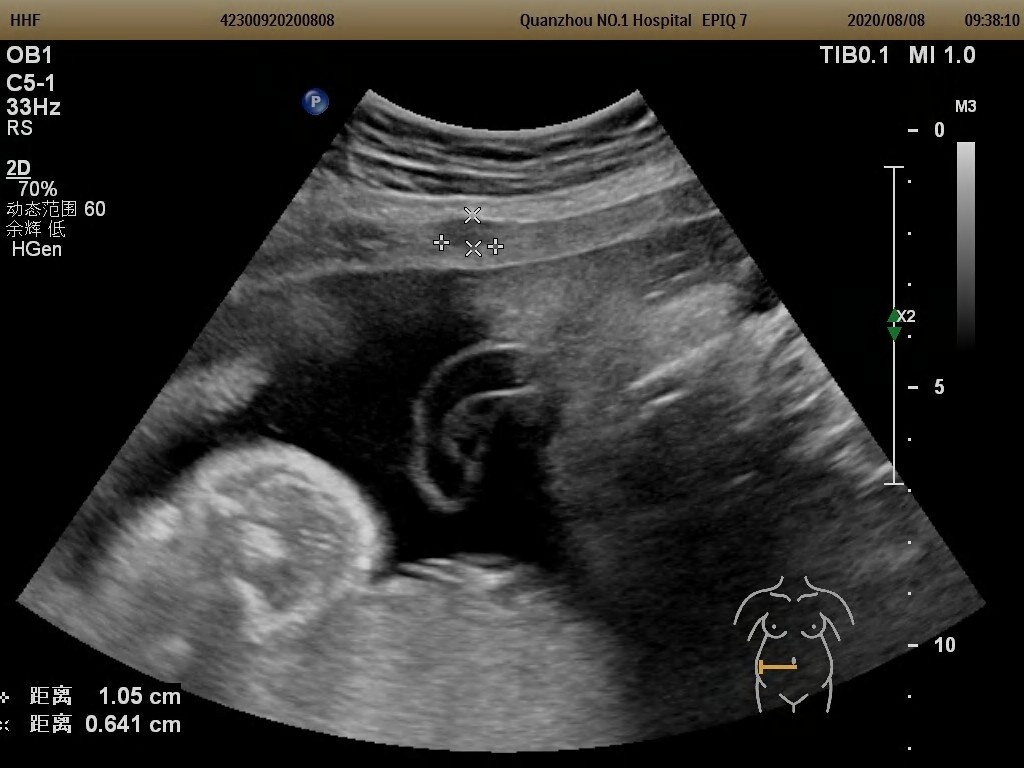肌瘤: (442, 218, 499, 251)
